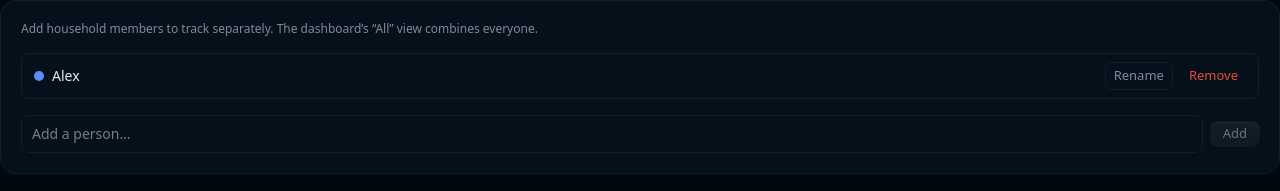
Test: ProfilesPane › removes a profile
Check: the text "Alex" is shown, box left=34, top=66, right=80, bottom=86
Click the button with aria-label "Remove Alex" at {"x": 1213, "y": 76}, box left=1181, top=62, right=1246, bottom=90
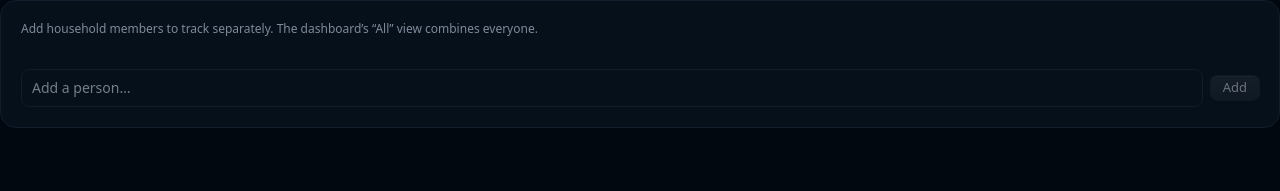
Check: the text "Alex" is gone
